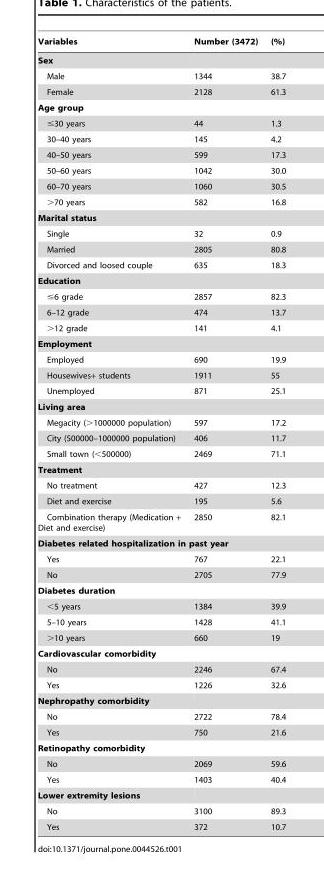table: (36, 36, 285, 831)
table column: (36, 36, 186, 831), (186, 36, 263, 831), (263, 36, 285, 831)
table column header: (36, 36, 285, 50)
table projected row header: (36, 50, 285, 68), (36, 99, 285, 115), (36, 209, 285, 225), (36, 272, 285, 288), (36, 335, 285, 351), (36, 398, 285, 414), (36, 461, 285, 477), (36, 535, 285, 551), (36, 582, 285, 598), (36, 645, 285, 661), (36, 692, 285, 708), (36, 787, 285, 803), (36, 740, 285, 755)
table row: (36, 507, 285, 535), (36, 50, 285, 68), (36, 366, 285, 383), (36, 83, 285, 99), (36, 99, 285, 115), (36, 115, 285, 131), (36, 146, 285, 162), (36, 162, 285, 178), (36, 193, 285, 209), (36, 209, 285, 225), (36, 225, 285, 241), (36, 241, 285, 257), (36, 272, 285, 288), (36, 288, 285, 304), (36, 319, 285, 335), (36, 335, 285, 351), (36, 398, 285, 414), (36, 414, 285, 430), (36, 445, 285, 461), (36, 461, 285, 477), (36, 477, 285, 493), (36, 535, 285, 551), (36, 566, 285, 582), (36, 582, 285, 598), (36, 598, 285, 614), (36, 629, 285, 645), (36, 645, 285, 661), (36, 661, 285, 677), (36, 692, 285, 708), (36, 708, 285, 724), (36, 724, 285, 740), (36, 755, 285, 771), (36, 771, 285, 787), (36, 787, 285, 803), (36, 68, 285, 83), (36, 131, 285, 146), (36, 178, 285, 193), (36, 257, 285, 272), (36, 304, 285, 319), (36, 351, 285, 366), (36, 383, 285, 398), (36, 430, 285, 445), (36, 551, 285, 566), (36, 614, 285, 629), (36, 677, 285, 692), (36, 740, 285, 755), (36, 803, 285, 818), (36, 36, 285, 50), (36, 493, 285, 507), (36, 818, 285, 831)
